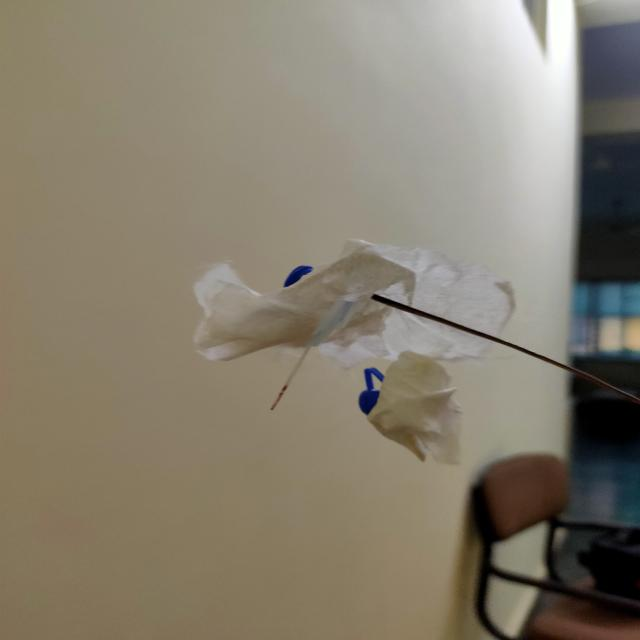B3: (268, 289, 322, 412), (358, 367, 385, 413), (280, 260, 315, 286)
